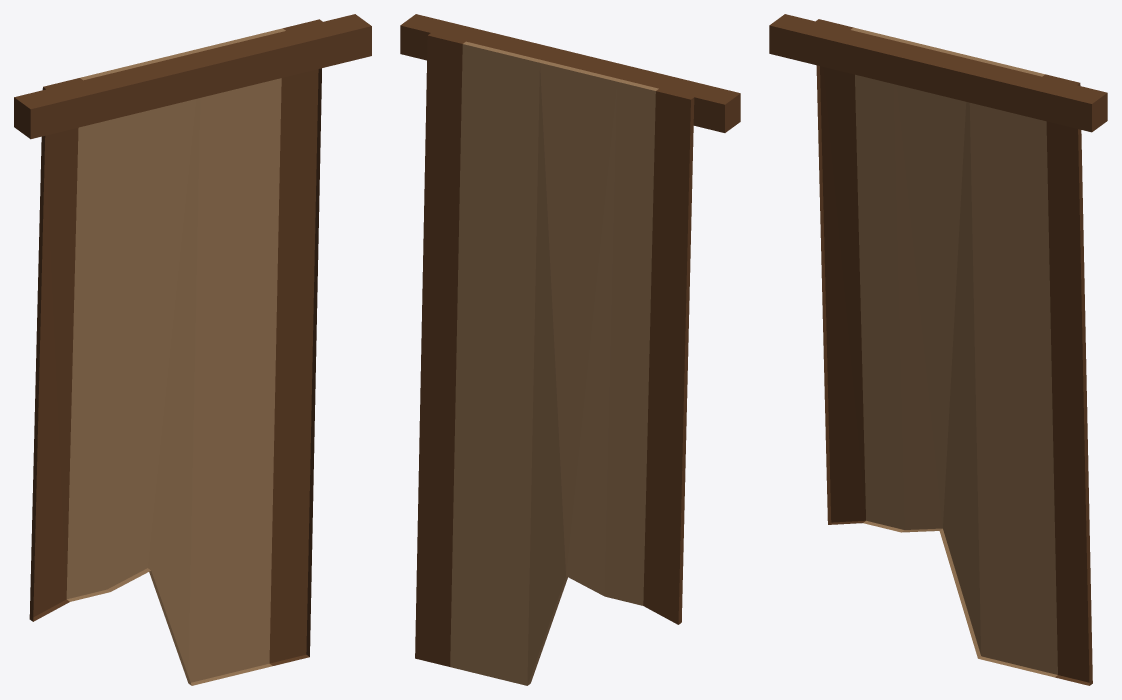
The model's file is Fabric Banner.fbx.
The picture shows the model from 3 angles, left to right: view 1: azimuth 30°, elevation 25°; view 2: azimuth 150°, elevation 25°; view 3: azimuth 330°, elevation 25°; orthographic projection. The views are drawn at different scales.
Parts seen in each view (by area): view 1: Stoff banner; view 2: Stoff banner; view 3: Stoff banner.
Part boxes in pixels (x1=…): Stoff banner: x1=14, y1=14, x2=371, y2=685; Stoff banner: x1=400, y1=14, x2=740, y2=685; Stoff banner: x1=769, y1=14, x2=1107, y2=685.
Size of the model in its own units: 111 by 201 by 18.72.
